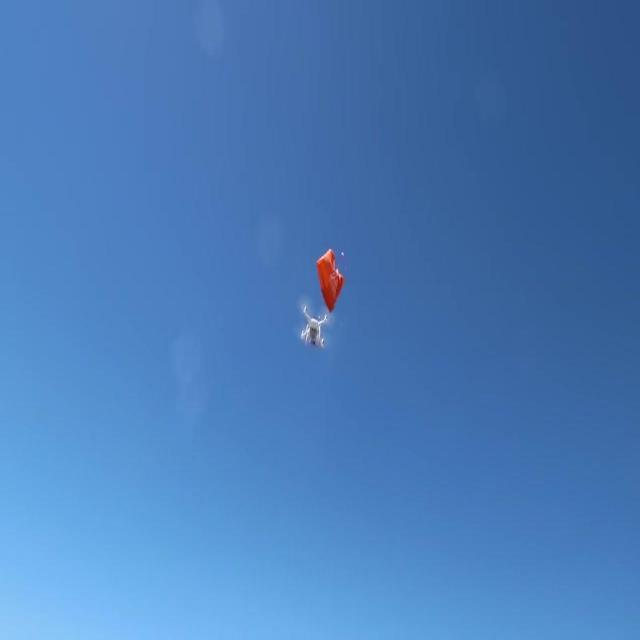UAV: (300, 306, 328, 346)
